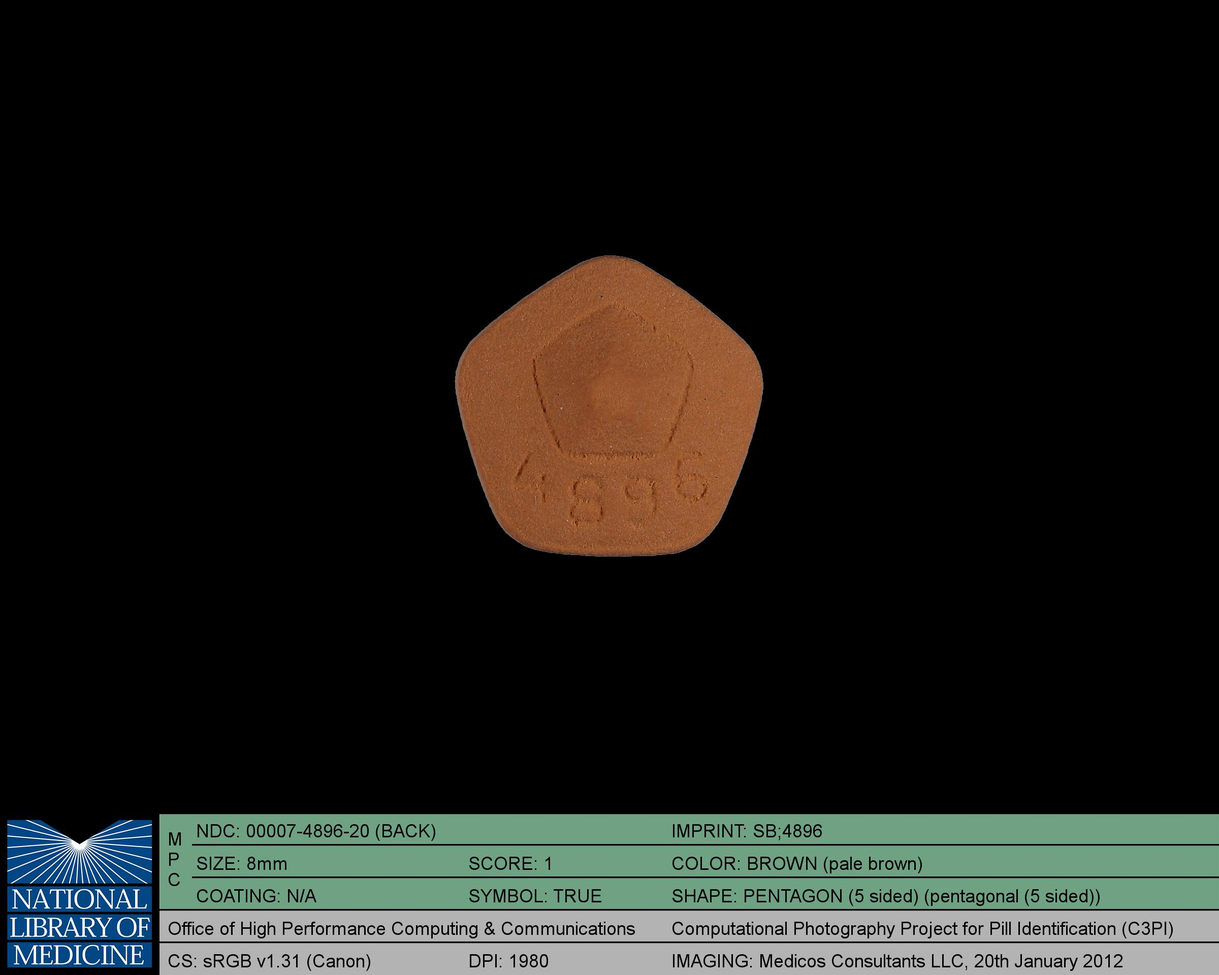Pill: (444, 244, 775, 565)
